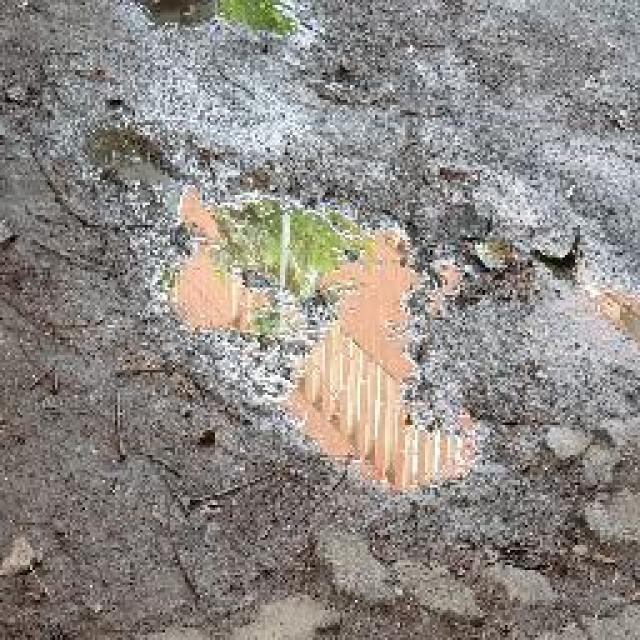puddle: (166, 173, 469, 490)
